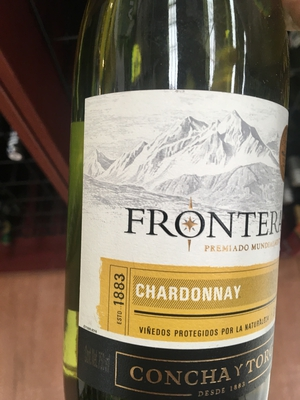frontera chardonnay: (57, 20, 287, 400)
